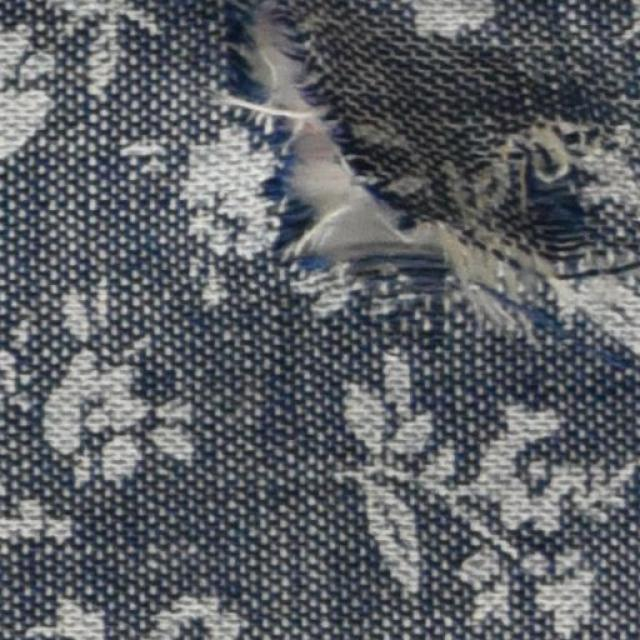Hole: (257, 41, 406, 256)
Snag: (218, 1, 639, 357)
